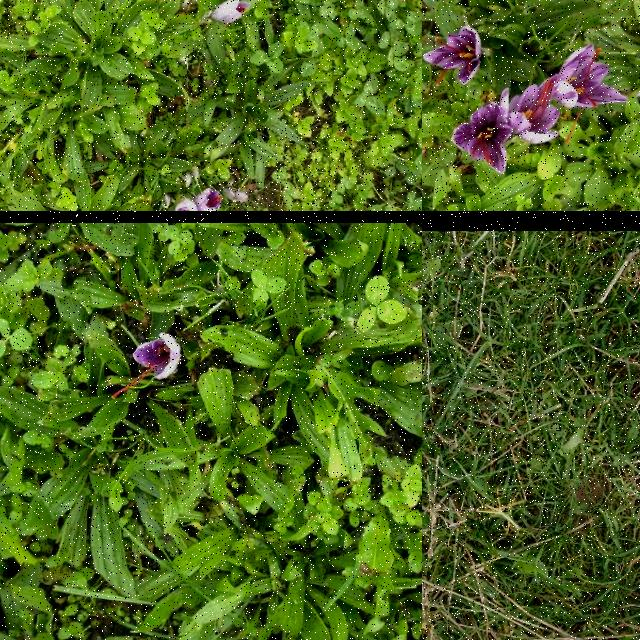flower: (552, 42, 628, 142), (110, 332, 182, 402), (451, 103, 513, 175), (499, 74, 559, 144), (424, 26, 484, 86), (210, 0, 251, 23), (195, 187, 222, 211), (174, 199, 197, 211)
